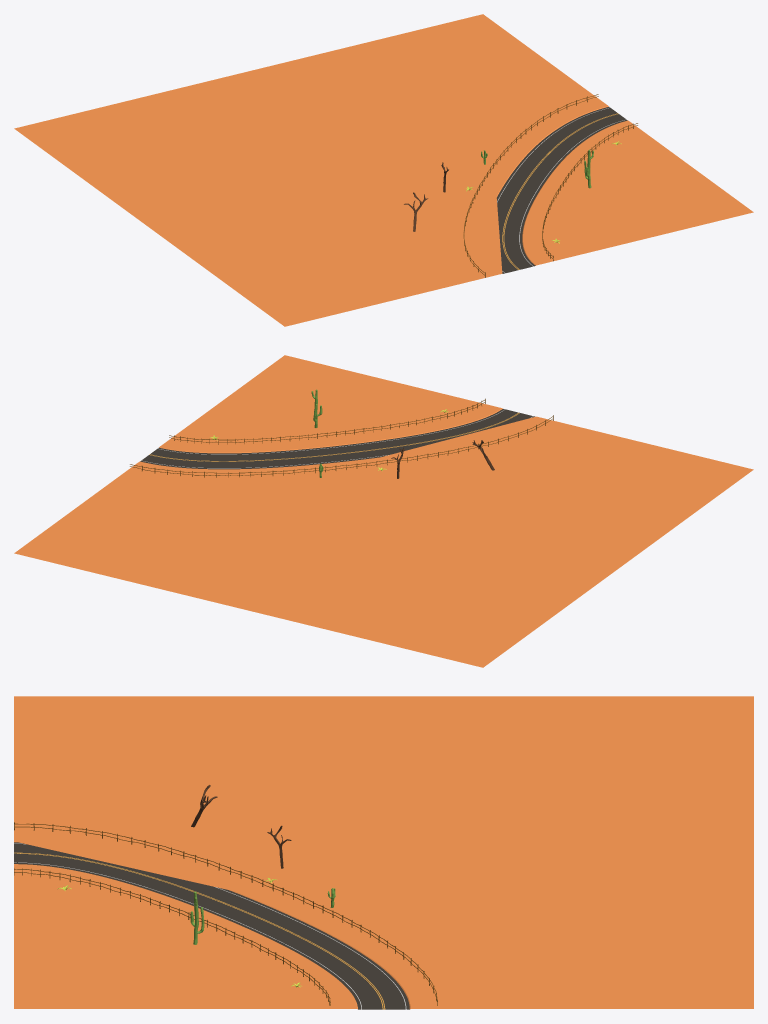
File: DesertRoadLeft5.fbx
3 views of the same model, one above another, from view 1: azimuth 30°, elevation 25°; view 2: azimuth 150°, elevation 25°; view 3: azimuth 270°, elevation 25° (orthographic). The views are drawn at different scales.
Visible parts, largest first — view 1: DRL5Road, DRL5WoodFenceLeft; view 2: DRL5Road, DRL5WoodFenceLeft, DRL5WoodFenceRight; view 3: DRL5Road, DRL5WoodFenceLeft, DRL5WoodFenceRight.
Boxes of the visible parts, x1,y1,x2,y2 form: DRL5Road: (14, 14, 753, 326); DRL5WoodFenceLeft: (463, 94, 598, 277); DRL5Road: (14, 355, 753, 667); DRL5WoodFenceLeft: (130, 415, 553, 477); DRL5WoodFenceRight: (169, 398, 485, 444); DRL5Road: (14, 696, 753, 1009); DRL5WoodFenceLeft: (14, 822, 437, 1005); DRL5WoodFenceRight: (14, 868, 330, 1005).
Size of what is drawn, in the model's own units: 20000 by 1741 by 20000.
